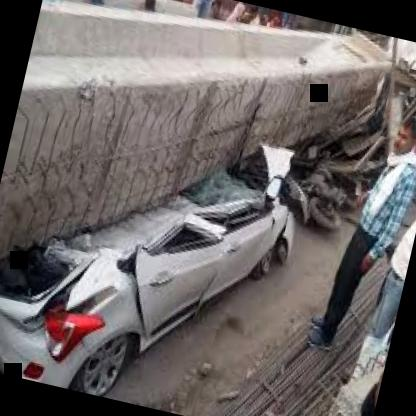accident: (0, 52, 369, 416)
